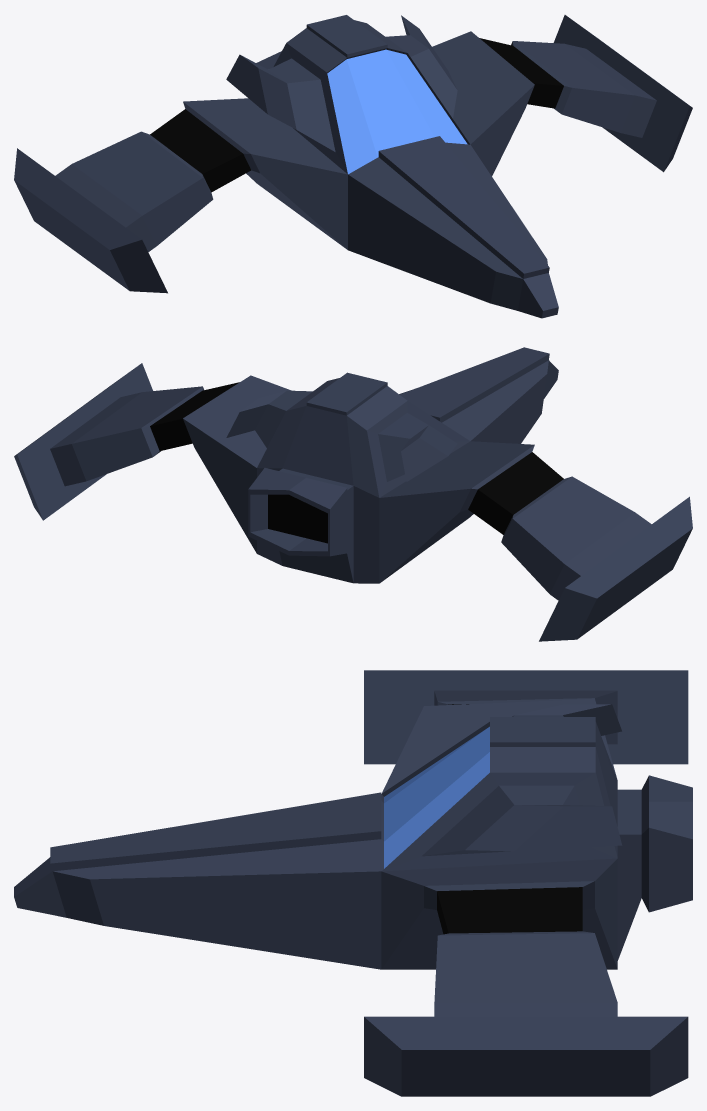
File: ProtoRaptor.fbx
3 renders of one model, top to bottom at view 1: azimuth 30°, elevation 25°; view 2: azimuth 150°, elevation 25°; view 3: azimuth 270°, elevation 25°, orthographic. The views are drawn at different scales.
Visible parts, largest first — view 1: ProtoRaptor; view 2: ProtoRaptor; view 3: ProtoRaptor.
Part boxes in pixels (box(x1,y1,x2,y2)): ProtoRaptor: box(14, 15, 692, 318); ProtoRaptor: box(14, 347, 692, 641); ProtoRaptor: box(14, 670, 692, 1096).
Bounding box in the file's own units: 9.52 × 2.52 × 7.41.
